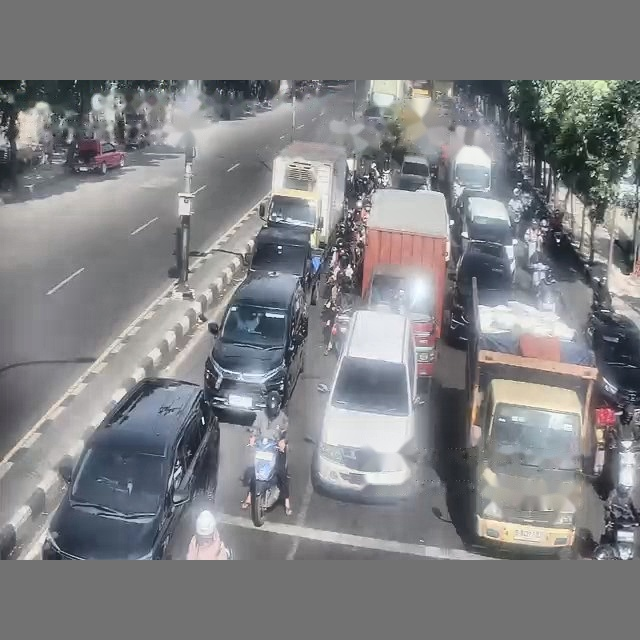Mobil: (42, 378, 219, 559), (312, 310, 420, 499), (204, 273, 308, 414), (444, 251, 513, 346), (248, 226, 317, 304), (585, 313, 639, 408), (460, 197, 517, 274), (71, 139, 125, 174), (400, 154, 430, 181)
Motor: (593, 490, 639, 559), (251, 438, 279, 527)
Truk: (466, 278, 600, 556), (361, 189, 449, 385), (259, 141, 347, 256)
